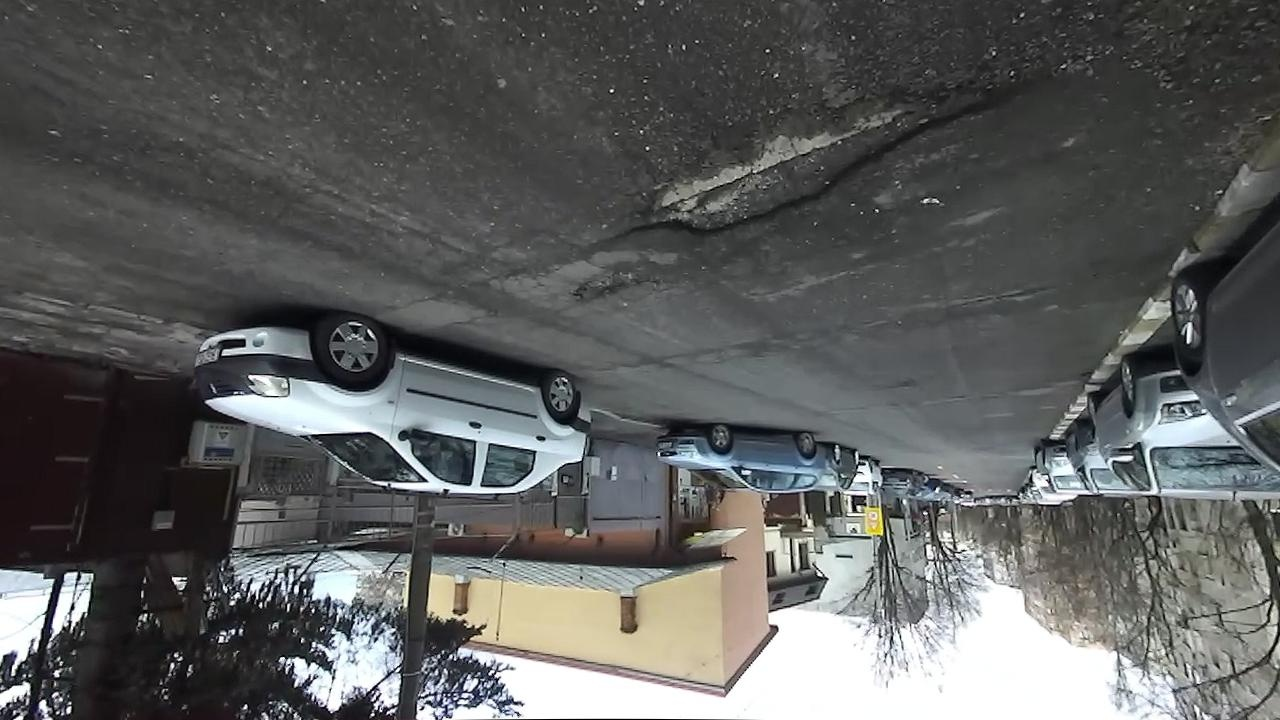pothole: (604, 77, 1021, 243), (564, 267, 669, 308), (949, 282, 1053, 314)
